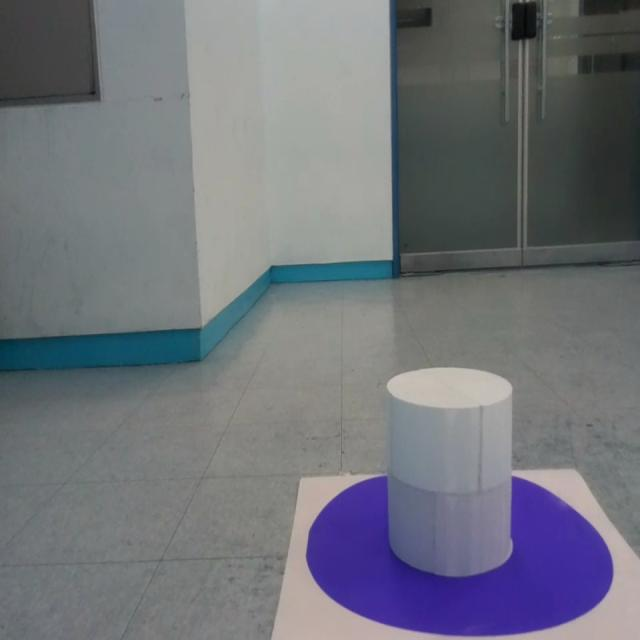cylinder: (383, 368, 512, 579)
